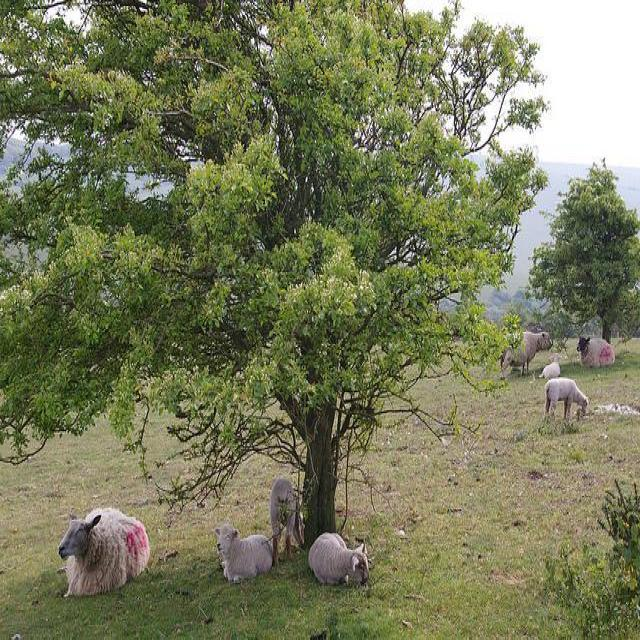Sheep: (58, 506, 150, 598), (214, 524, 275, 584), (308, 533, 369, 589), (271, 478, 306, 566)
